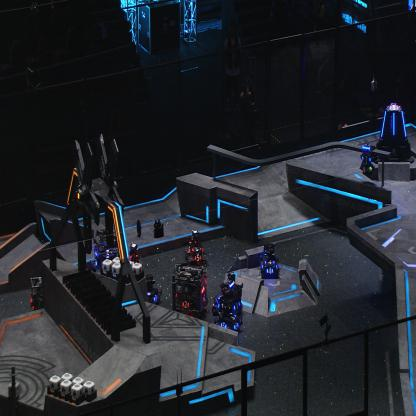car: (172, 260, 209, 320), (91, 226, 123, 275), (211, 271, 244, 317), (214, 301, 242, 336), (29, 274, 52, 313), (184, 229, 208, 265), (139, 274, 161, 310), (259, 242, 280, 278), (122, 242, 142, 274)
